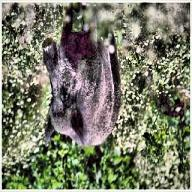boar: (40, 3, 122, 147)
